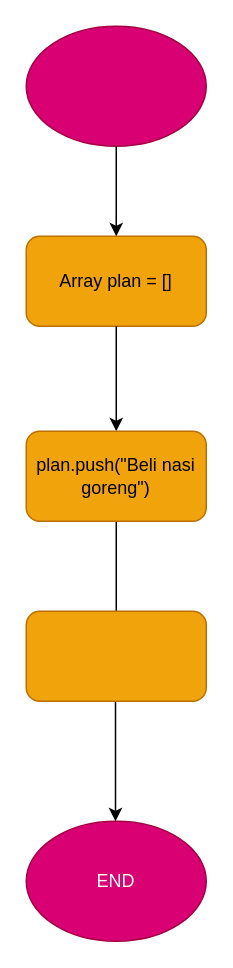
The diagram is 233 pixels wide and 968 high, and some of its shapes have lost their labels. The centre of each missing label's shape, as x and y in pixels:
plan.push("Login game online"): (115,655)
START: (115,85)
